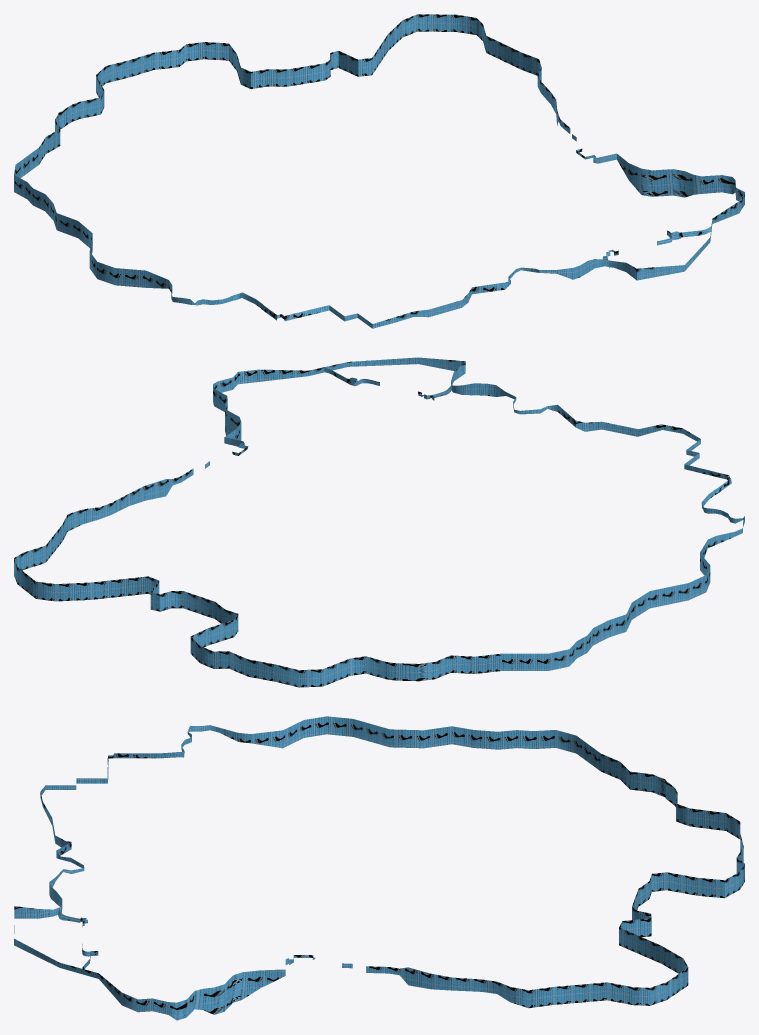
Rendered from Zaton_fake.fbx.
The picture shows the model from 3 angles, top to bottom: view 1: azimuth 30°, elevation 25°; view 2: azimuth 150°, elevation 25°; view 3: azimuth 270°, elevation 25°; orthographic projection. The views are drawn at different scales.
Parts seen in each view (by area): view 1: zaton_fake.object; view 2: zaton_fake.object; view 3: zaton_fake.object.
Boxes of the visible parts, x1,y1,x2,y2 form: zaton_fake.object: (14, 14, 744, 328); zaton_fake.object: (14, 357, 744, 687); zaton_fake.object: (14, 716, 744, 1020).
Bounding box in the file's own units: 124954 × 7288 × 134819.
